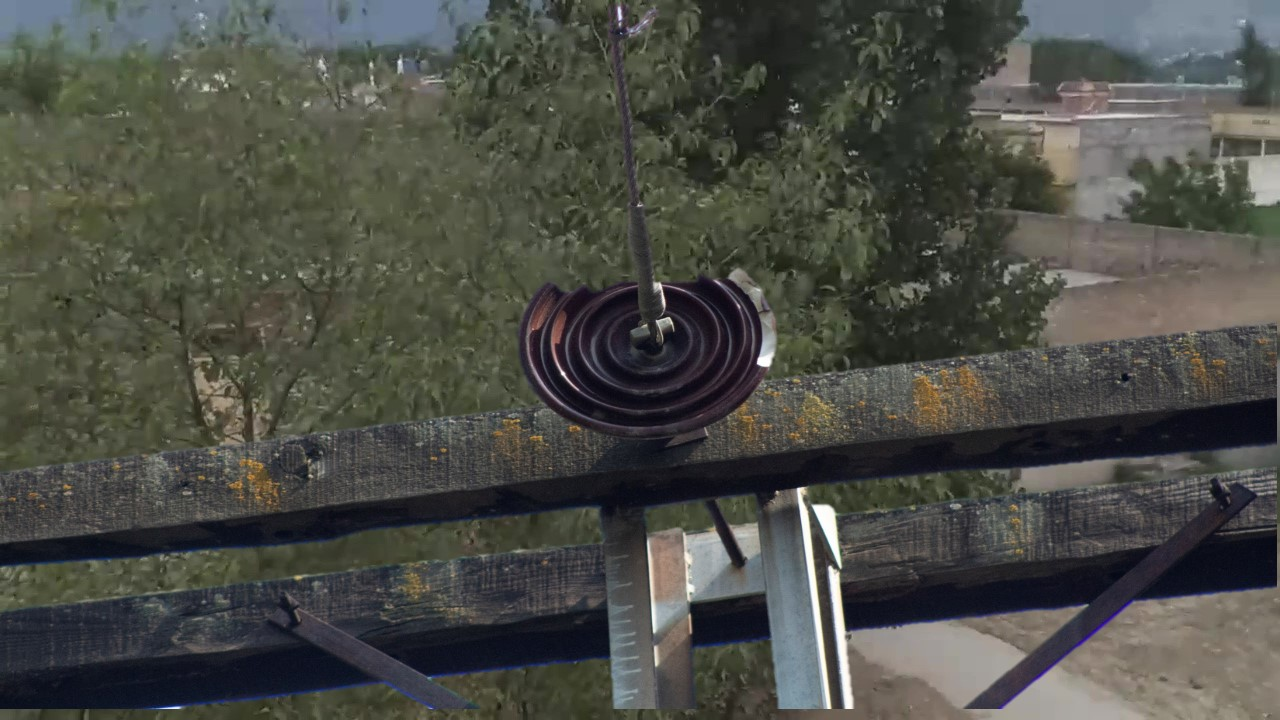defect_disc: (516, 261, 788, 432)
